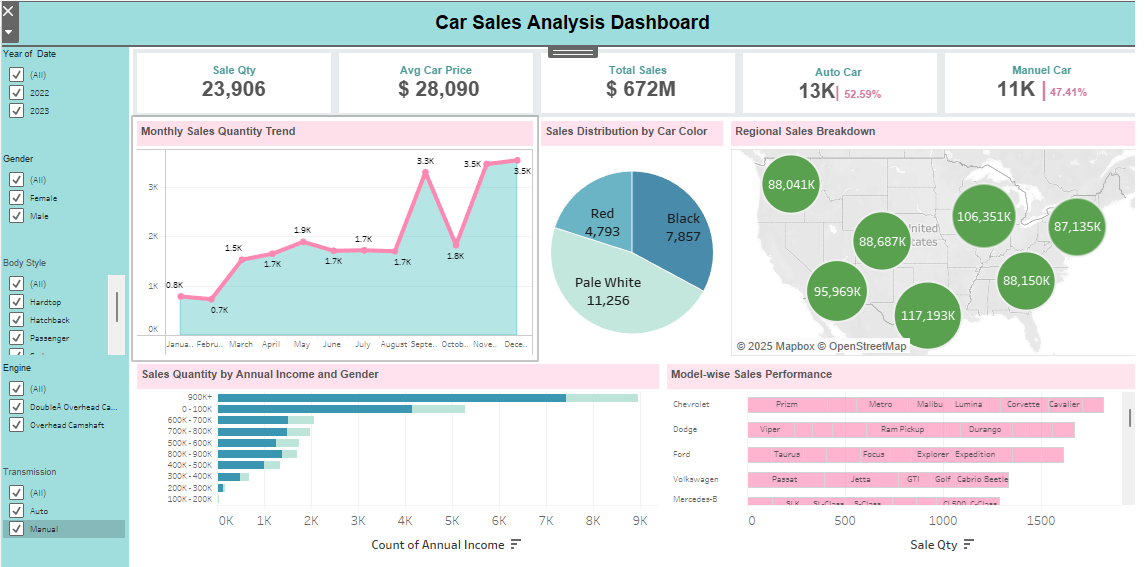

The page's visual inventory and layout, read from the dashboard file:
{"tool":"tableau","page":{"name":"Dashboard","canvas":[1163,584],"ordinal":0},"visuals":[{"type":"title","box":[8,8,1147,45]},{"type":"filter","title":"Sales Qty by year","param":"[federated.0r4qvsq1aissnj19z778r0dy4rwg].[yr:Date:ok]","box":[8,53,129.9,104.6]},{"type":"worksheet","title":"Sale qty","mark":"Automatic","box":[142,57,202,68]},{"type":"worksheet","title":"Average price","mark":"Automatic","box":[344,57,202,68]},{"type":"worksheet","title":"Sale qty (2)","mark":"Automatic","box":[546,57,202,68]},{"type":"worksheet","title":"% Auto","mark":"Automatic","box":[748,57,202,68]},{"type":"worksheet","title":"% Manuel","mark":"Automatic","box":[950,57,201,68]},{"type":"worksheet","title":"Sales Qty by year","mark":"Area","rows":["Calculation_1145884647400361984","Calculation_1145884647400361984"],"cols":["Date"],"box":[141.9,125,403.8,281]},{"type":"worksheet","title":"Color","mark":"Pie","box":[545.7,125,202.4,281]},{"type":"worksheet","title":"region","mark":"Automatic","box":[748.1,125,402.9,281]},{"type":"filter","title":"Sales Qty by year","param":"[federated.0r4qvsq1aissnj19z778r0dy4rwg].[none:Gender:nk]","box":[8,157.6,129.9,104.6]},{"type":"filter","title":"Sales Qty by year","param":"[federated.0r4qvsq1aissnj19z778r0dy4rwg].[none:Body Style:nk]","box":[8,262.2,129.9,104.6]},{"type":"filter","title":"Sales Qty by year","param":"[federated.0r4qvsq1aissnj19z778r0dy4rwg].[none:Engine:nk]","box":[8,366.8,129.9,104.6]},{"type":"worksheet","title":"Sales Quantity by Annual Income and Gender","mark":"Automatic","rows":["Calculation_1040894481448206337"],"cols":["Annual Income"],"box":[141.9,406,605.9,166]},{"type":"worksheet","title":"Sales Qty by comp and modele","mark":"Automatic","rows":["Company"],"cols":["Calculation_1145884647400361984"],"box":[747.8,406,403.2,166]},{"type":"filter","title":"Sales Qty by year","param":"[federated.0r4qvsq1aissnj19z778r0dy4rwg].[none:Transmission:nk]","box":[8,471.4,129.9,104.6]}]}

Visuals, with their boxes in screenshot pixels (x1, y1, x2, y2), scaled from the page's 1163x584 canvas onto the 1145x567 screenshot:
title: 8 8 1137 51
"Sales Qty by year" filter: 8 51 136 153
"Sale qty" worksheet: 140 55 339 121
"Average price" worksheet: 339 55 538 121
"Sale qty (2)" worksheet: 538 55 736 121
"% Auto" worksheet: 736 55 935 121
"% Manuel" worksheet: 935 55 1133 121
"Sales Qty by year" worksheet (Area marks): 140 121 537 394
"Color" worksheet (Pie marks): 537 121 737 394
"region" worksheet: 737 121 1133 394
"Sales Qty by year" filter: 8 153 136 255
"Sales Qty by year" filter: 8 255 136 356
"Sales Qty by year" filter: 8 356 136 458
"Sales Quantity by Annual Income and Gender" worksheet: 140 394 736 555
"Sales Qty by comp and modele" worksheet: 736 394 1133 555
"Sales Qty by year" filter: 8 458 136 559
